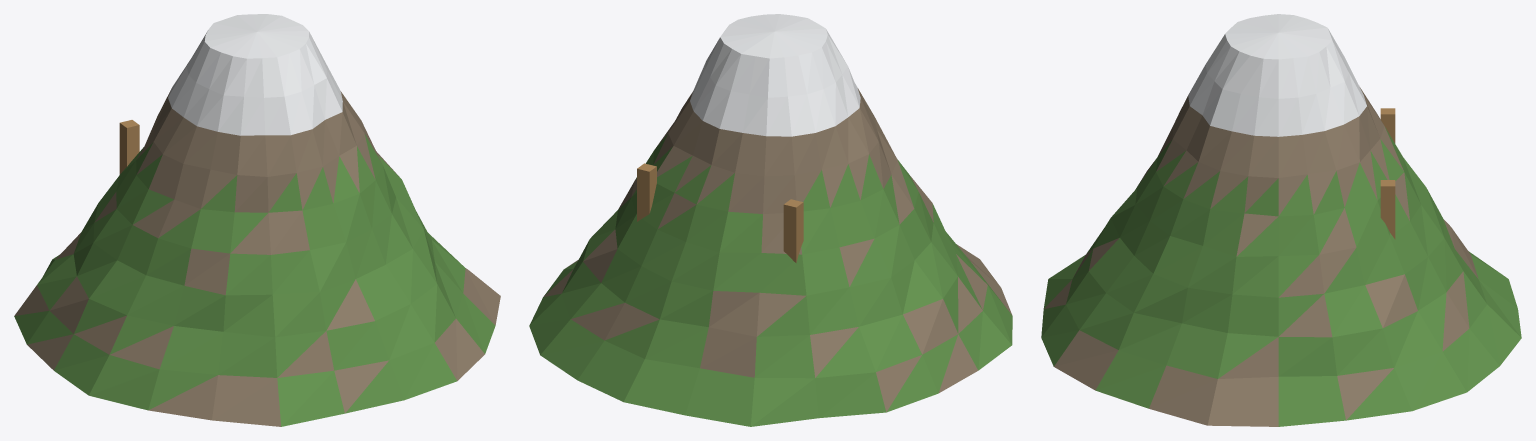
Rendered from X001_paper_mountain.glb.
3 views of the same model, side by side, from view 1: azimuth 30°, elevation 25°; view 2: azimuth 150°, elevation 25°; view 3: azimuth 270°, elevation 25° (orthographic).
Visible parts, largest first — view 1: Slope, Rock, Snow, Post; view 2: Slope, Rock, Snow, Post, _MeshInstance3D_2; view 3: Slope, Rock, Snow, _MeshInstance3D_2.
Boxes of the visible parts, x1=… form: Slope: x1=14, y1=134, x2=495, y2=426; Rock: x1=14, y1=88, x2=500, y2=426; Snow: x1=168, y1=14, x2=342, y2=135; Post: x1=119, y1=120, x2=139, y2=174; Slope: x1=529, y1=134, x2=1012, y2=426; Rock: x1=544, y1=88, x2=1012, y2=411; Snow: x1=690, y1=14, x2=860, y2=136; Post: x1=783, y1=199, x2=803, y2=262; _MeshInstance3D_2: x1=637, y1=163, x2=656, y2=221; Slope: x1=1041, y1=127, x2=1521, y2=426; Rock: x1=1044, y1=87, x2=1478, y2=426; Snow: x1=1188, y1=14, x2=1366, y2=136; _MeshInstance3D_2: x1=1380, y1=180, x2=1395, y2=239.
Size of the model in its own units: 1.98 by 1.32 by 1.98.
